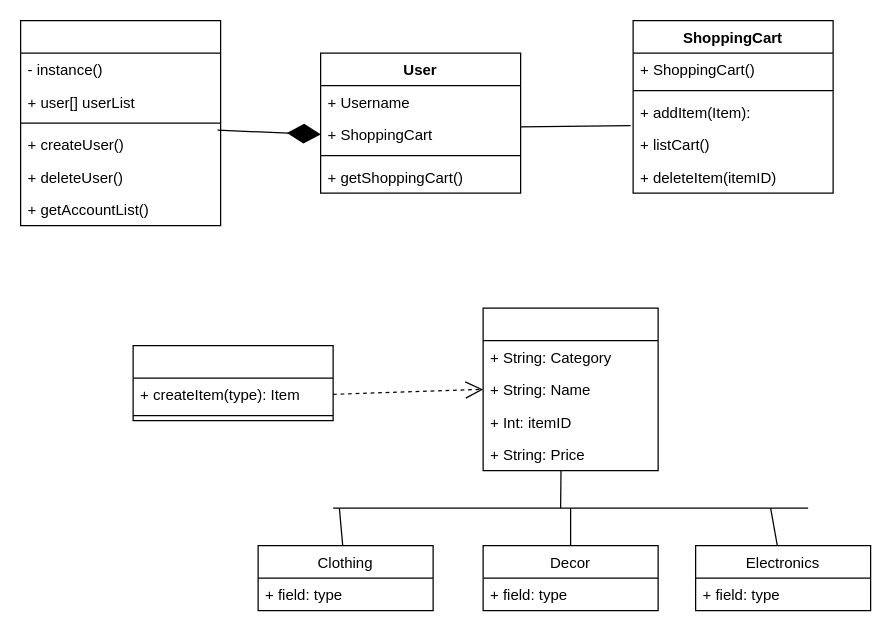
Image size: 891x631. Some labels were removed from this diagram. Here are the shapes that lost their labels. From the top down, the box of each, then its label:
(19, 19, 221, 226): AccountManagerSingleton
(132, 344, 333, 421): ItemFactory
(482, 307, 658, 471): AbstractItem
